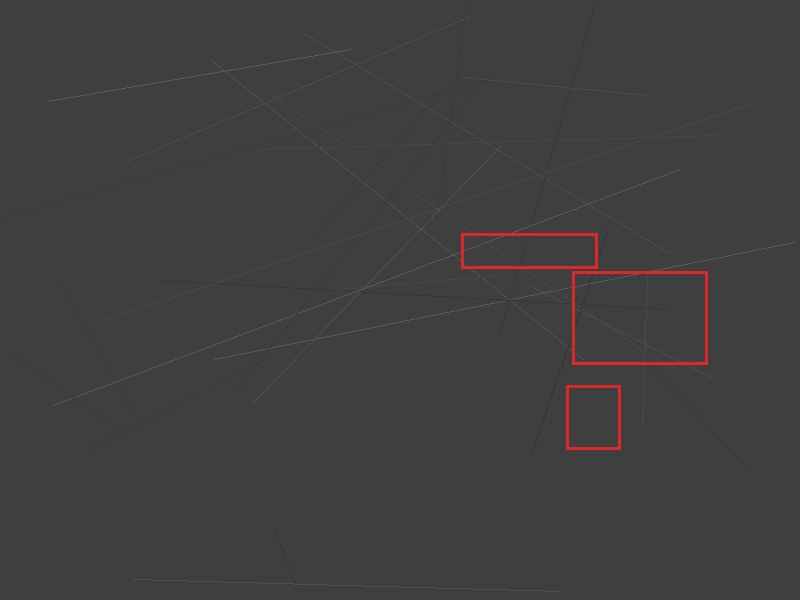D00: (461, 233, 597, 268)
D40: (572, 271, 707, 364), (566, 385, 620, 449)
